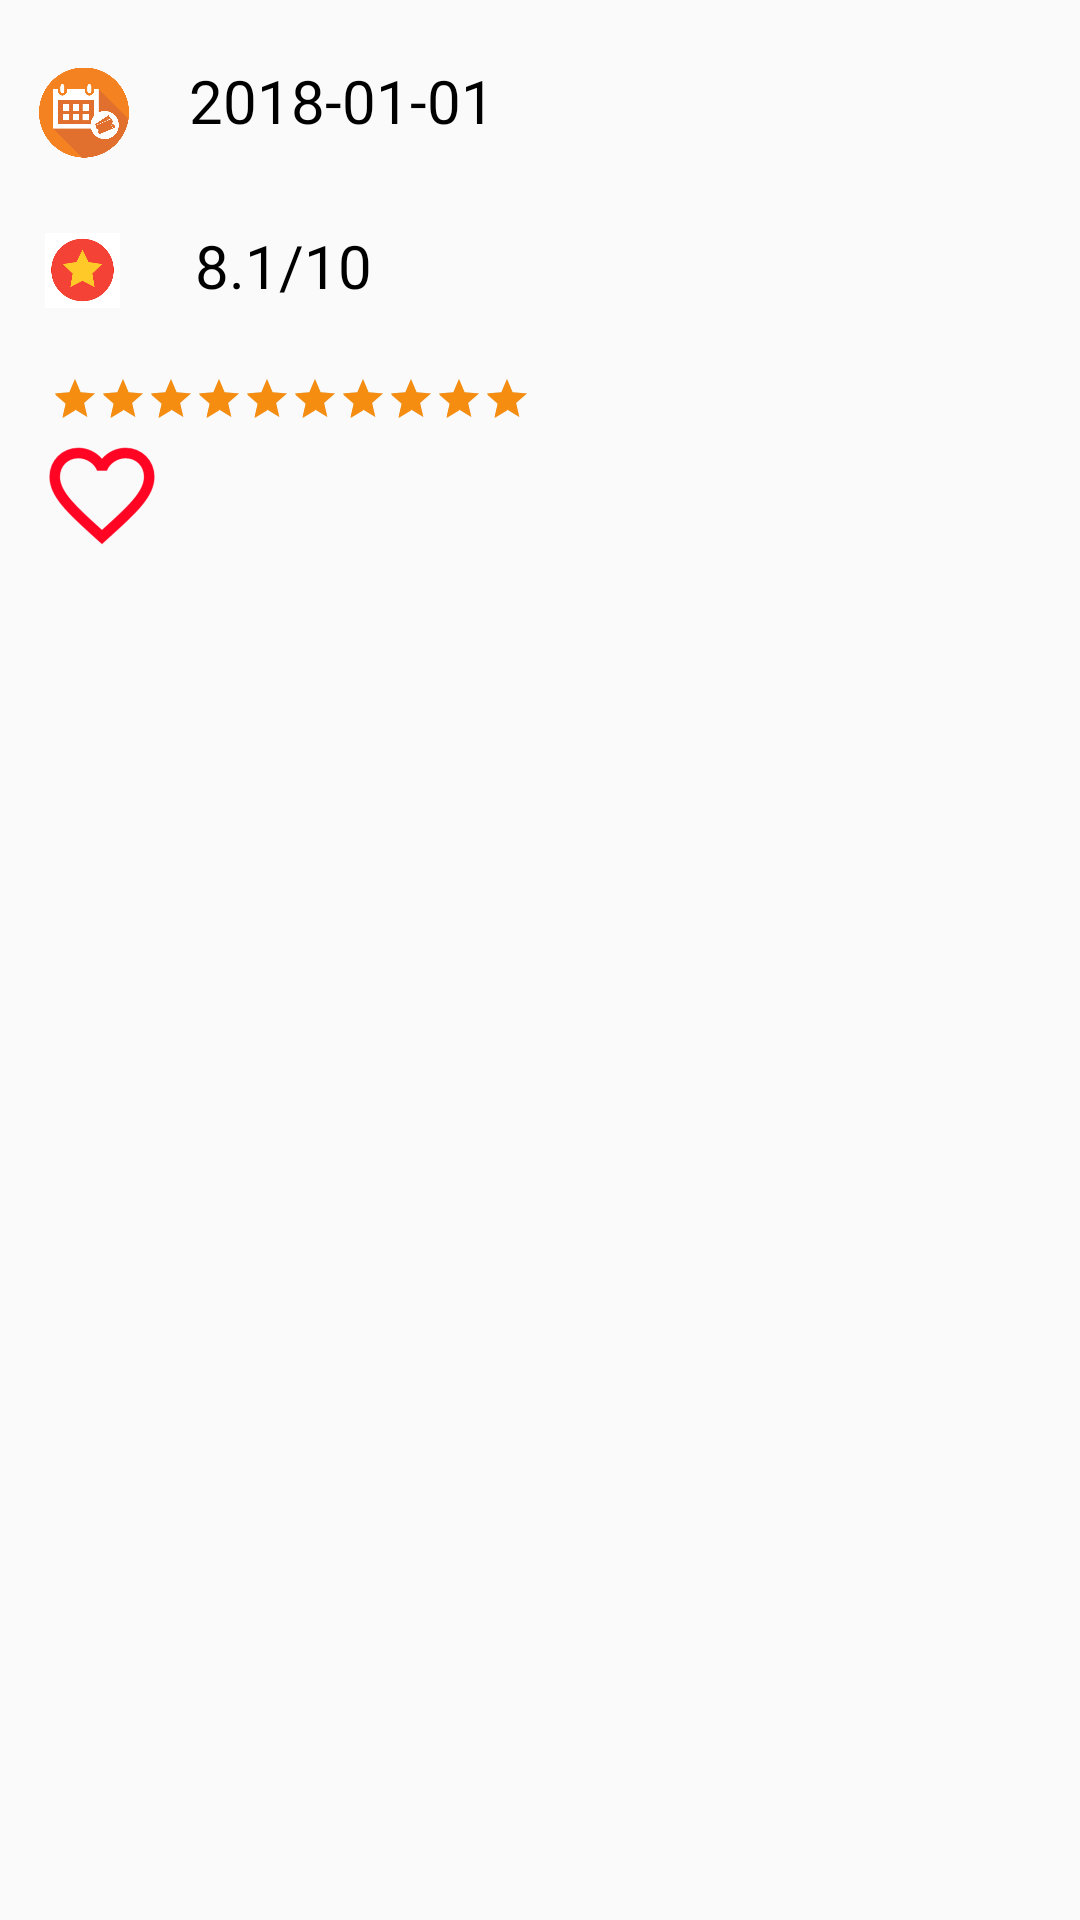

Locate icon controls on the screen. Image size 1080 × 1920, boxes as rect(x1, y1, x2, y2).
date: rect(39, 68, 129, 158)
star: rect(51, 239, 114, 301)
unfav: rect(49, 447, 155, 544)
